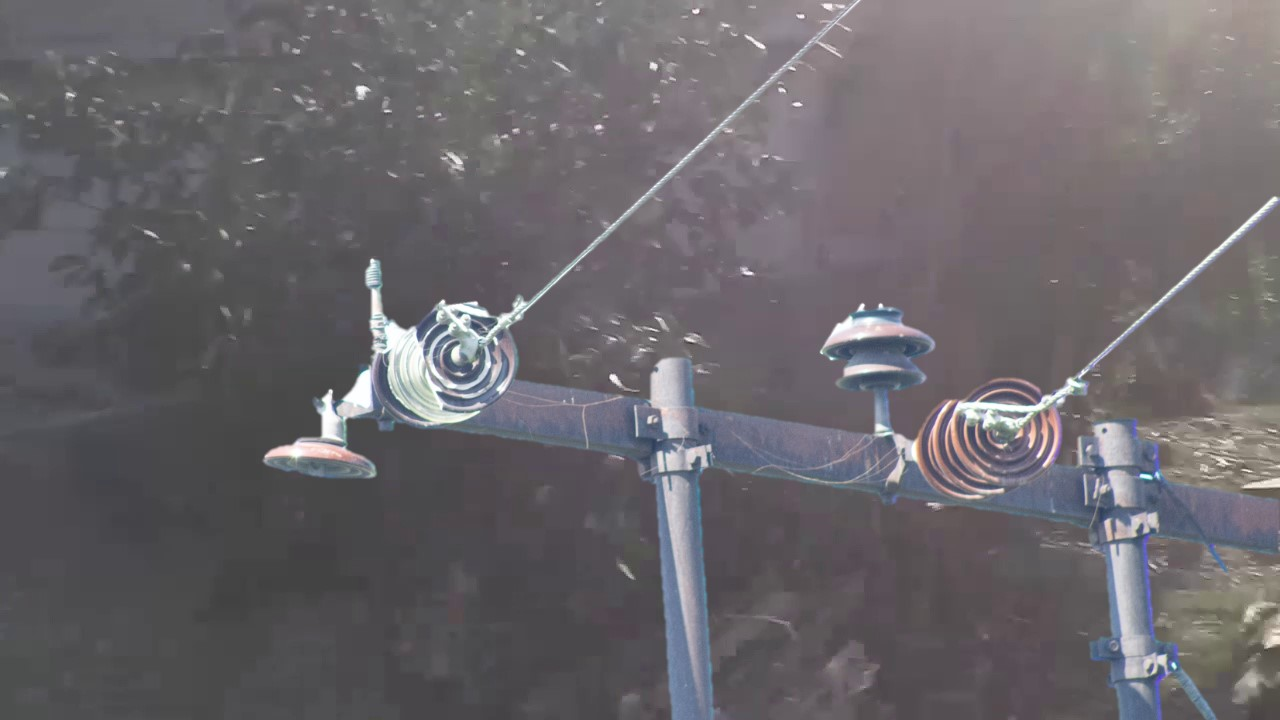defect_disc: (411, 294, 523, 417)
insulator_disc: (948, 369, 1063, 487), (261, 425, 380, 490)
